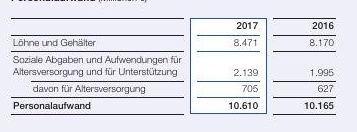table: (0, 0, 357, 132)
